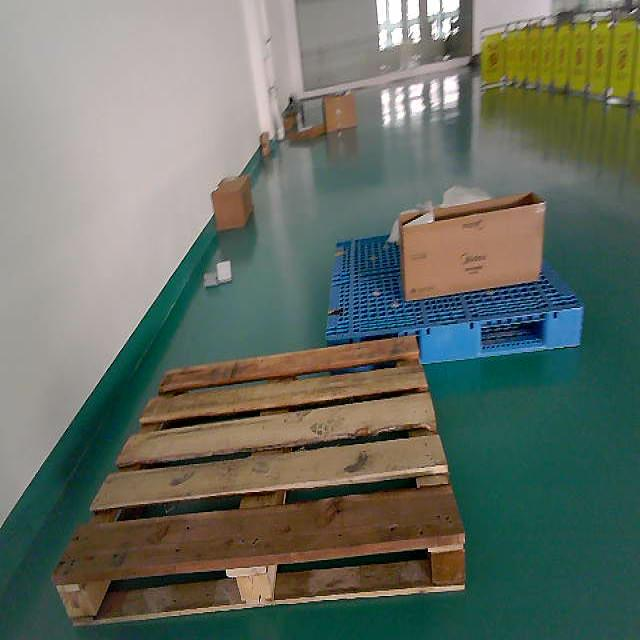euro: (54, 337, 464, 624)
